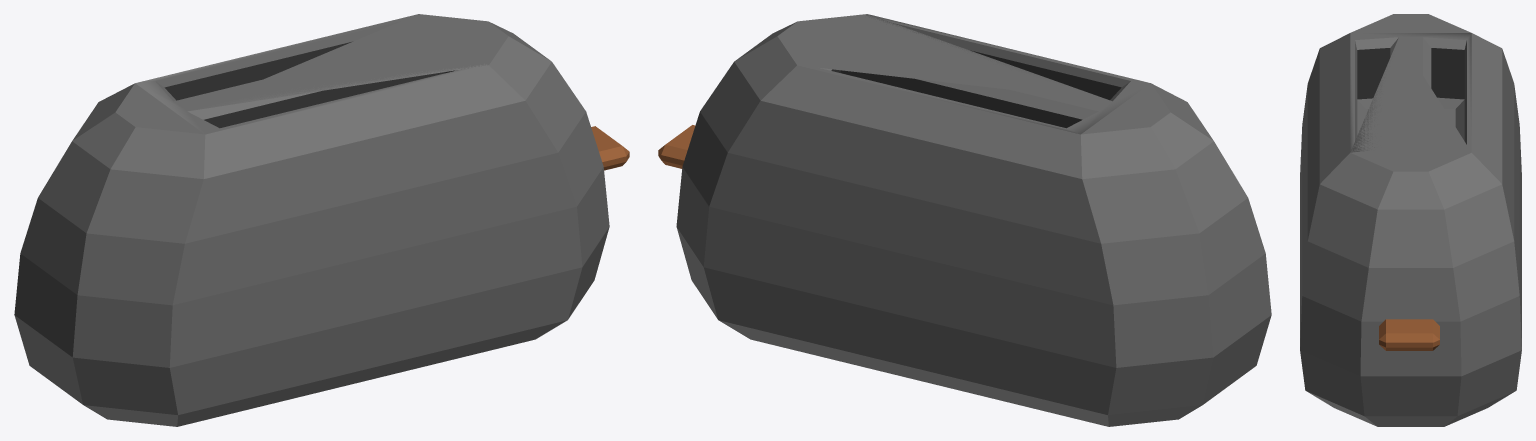
File: Toaster.fbx
The picture shows the model from 3 angles, left to right: view 1: azimuth 30°, elevation 25°; view 2: azimuth 150°, elevation 25°; view 3: azimuth 270°, elevation 25°; orthographic projection. The views are drawn at different scales.
Parts seen in each view (by area): view 1: Toaster; view 2: Toaster; view 3: Toaster.
Part boxes in pixels (x1=…): Toaster: x1=14, y1=14, x2=629, y2=426; Toaster: x1=658, y1=14, x2=1271, y2=426; Toaster: x1=1300, y1=14, x2=1521, y2=426.
Size of the model in its own units: 0.3732 by 0.1725 by 0.1449.
1 material, 1 textured.
